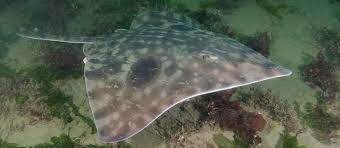Big Skate: (10, 6, 310, 146)
